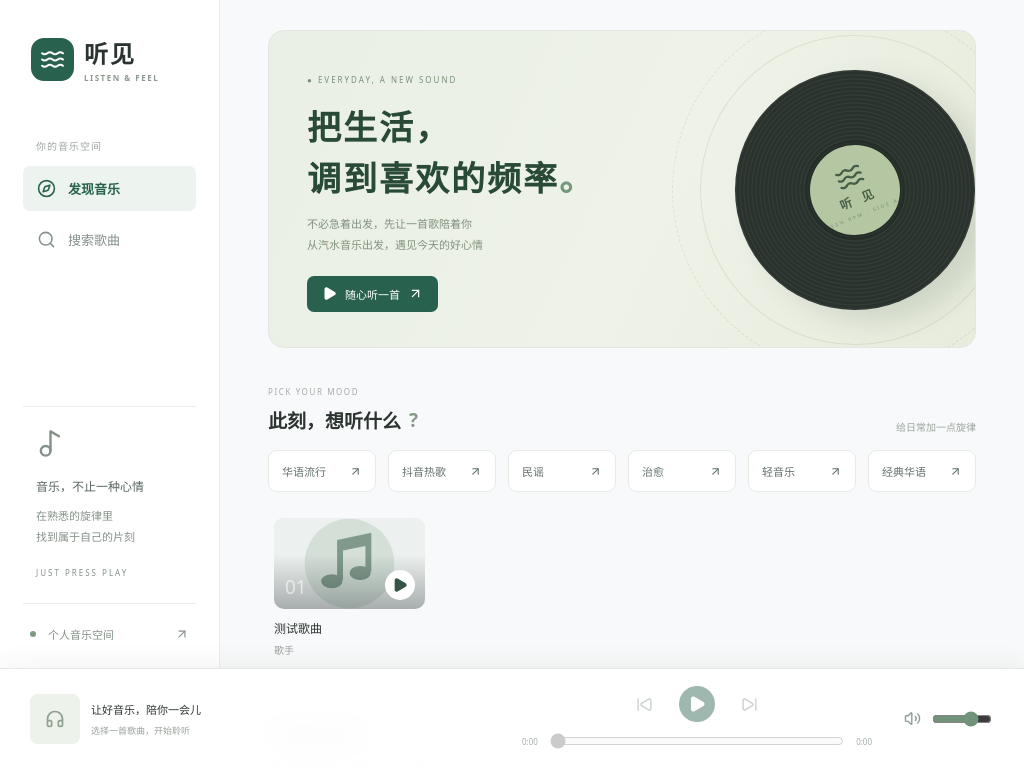
Test: opens search mode and focuses the search input from the sidebar
The width and height of the screenshot is (1024, 768).
Click the button "搜索歌曲": (110, 240) [23,217,196,262]
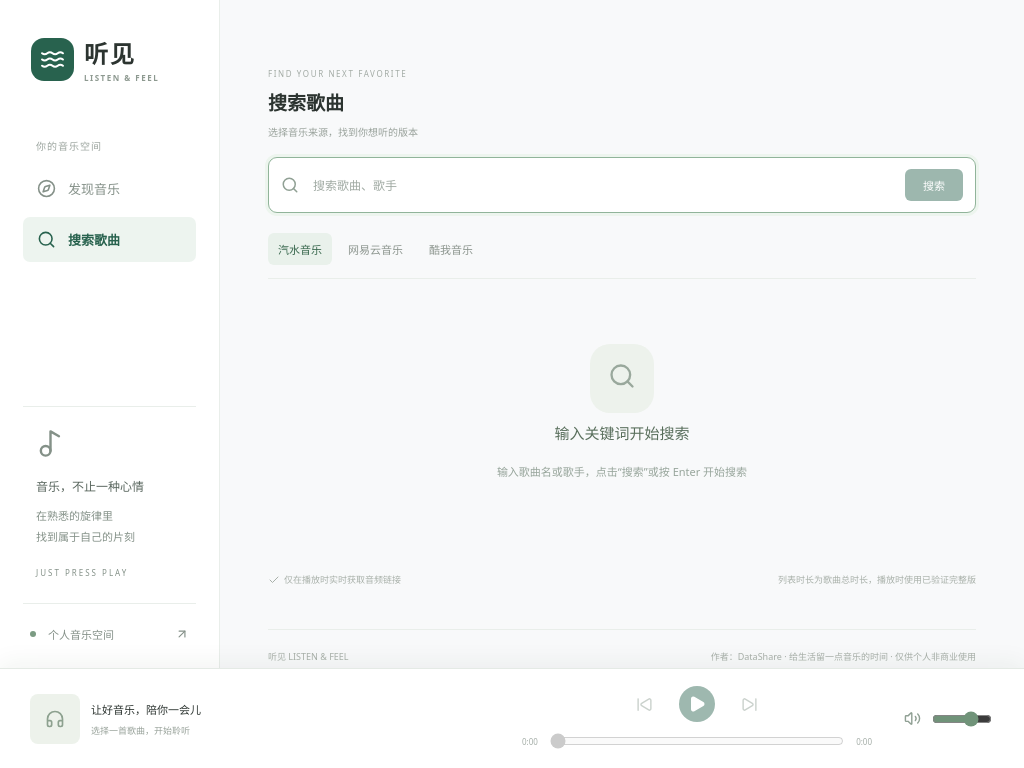
Now the field with placeholder "搜索歌曲、歌手" is shown, box [311,176,893,194]
Now the form with class "search-page-form" is shown, box [268,157,976,213]
Now the element with class "toolbar" is shown, box [268,233,976,279]
